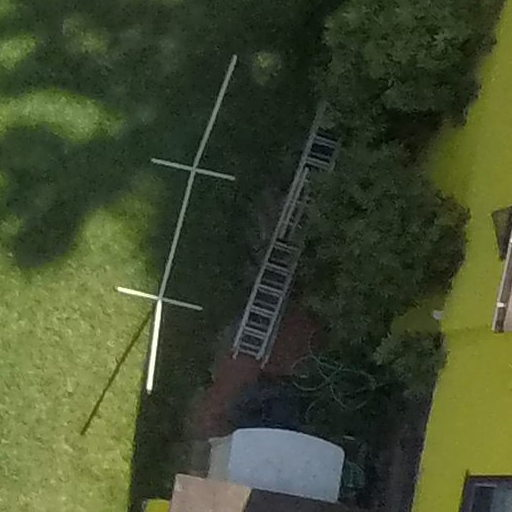ladder: (216, 83, 355, 364)
